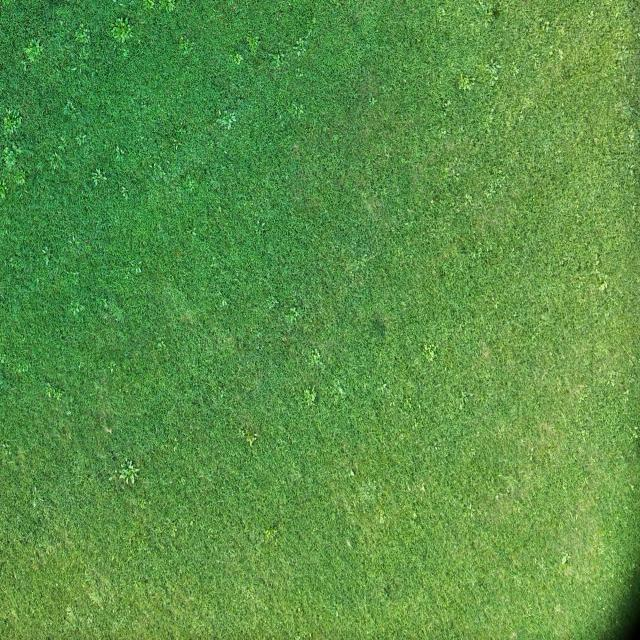rumex: (462, 155, 514, 210), (198, 108, 243, 168), (302, 342, 328, 402), (71, 24, 92, 72), (438, 90, 460, 129), (46, 140, 69, 173), (150, 159, 171, 187), (478, 3, 498, 31), (2, 106, 22, 132), (241, 34, 260, 59), (24, 38, 43, 62), (10, 165, 28, 189), (614, 50, 634, 69), (44, 382, 64, 401), (39, 244, 53, 270), (63, 98, 78, 121), (177, 310, 195, 328), (155, 0, 177, 14), (217, 114, 235, 131), (84, 585, 100, 604), (457, 73, 472, 93), (537, 18, 553, 36), (3, 151, 16, 171), (67, 300, 82, 317), (29, 487, 40, 510), (129, 260, 143, 277), (264, 525, 278, 542), (382, 582, 396, 599), (183, 176, 196, 193), (304, 390, 316, 408), (596, 275, 609, 291), (92, 168, 105, 184), (292, 101, 304, 118), (424, 346, 436, 363), (272, 52, 285, 67), (561, 65, 573, 81), (178, 39, 190, 54), (490, 66, 501, 82), (0, 179, 9, 198), (76, 33, 90, 45), (464, 193, 475, 207), (233, 52, 244, 66), (440, 97, 451, 110), (267, 297, 278, 310), (75, 133, 86, 146), (437, 7, 448, 20), (311, 349, 321, 363), (459, 390, 468, 405), (119, 185, 129, 198), (438, 127, 449, 138), (170, 137, 180, 149), (439, 168, 449, 180), (556, 26, 566, 38), (143, 0, 155, 10), (121, 48, 130, 61), (115, 146, 124, 158), (247, 435, 255, 448), (128, 472, 136, 485), (157, 336, 165, 348), (291, 308, 299, 320), (368, 96, 376, 108), (70, 234, 78, 246), (304, 388, 313, 398), (295, 46, 303, 57), (556, 49, 564, 60), (296, 68, 304, 79), (628, 131, 636, 142), (560, 554, 568, 565), (139, 99, 147, 109), (336, 385, 344, 395), (139, 498, 146, 509), (379, 512, 385, 524), (1, 442, 10, 450), (554, 604, 563, 612), (381, 382, 388, 392), (412, 420, 419, 430), (493, 63, 503, 70), (22, 61, 28, 72), (57, 143, 65, 151), (422, 364, 430, 372), (439, 44, 446, 53), (590, 457, 597, 466), (332, 134, 339, 143), (111, 28, 118, 37), (221, 298, 227, 308), (635, 427, 640, 439), (623, 388, 630, 396), (559, 258, 566, 266), (70, 66, 78, 73), (493, 300, 499, 309), (174, 143, 180, 152), (238, 429, 244, 438), (609, 378, 615, 387), (349, 469, 355, 478), (126, 459, 132, 468), (103, 299, 108, 309), (311, 16, 316, 26), (468, 501, 473, 511), (486, 63, 492, 71), (284, 172, 290, 180), (46, 390, 52, 398), (41, 247, 47, 255), (556, 148, 562, 156), (191, 228, 197, 236), (420, 484, 426, 492), (412, 512, 418, 520), (60, 136, 66, 144), (230, 113, 236, 121), (123, 18, 128, 27), (256, 332, 261, 340), (459, 402, 464, 410), (495, 493, 500, 501), (629, 143, 634, 151), (252, 433, 257, 441), (335, 609, 340, 617), (179, 126, 185, 132), (66, 410, 72, 416), (530, 446, 534, 453)
